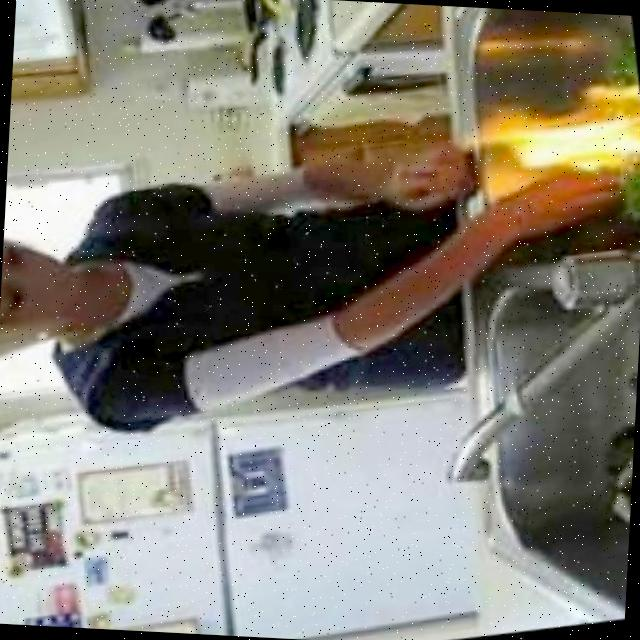fire: (463, 82, 640, 199)
